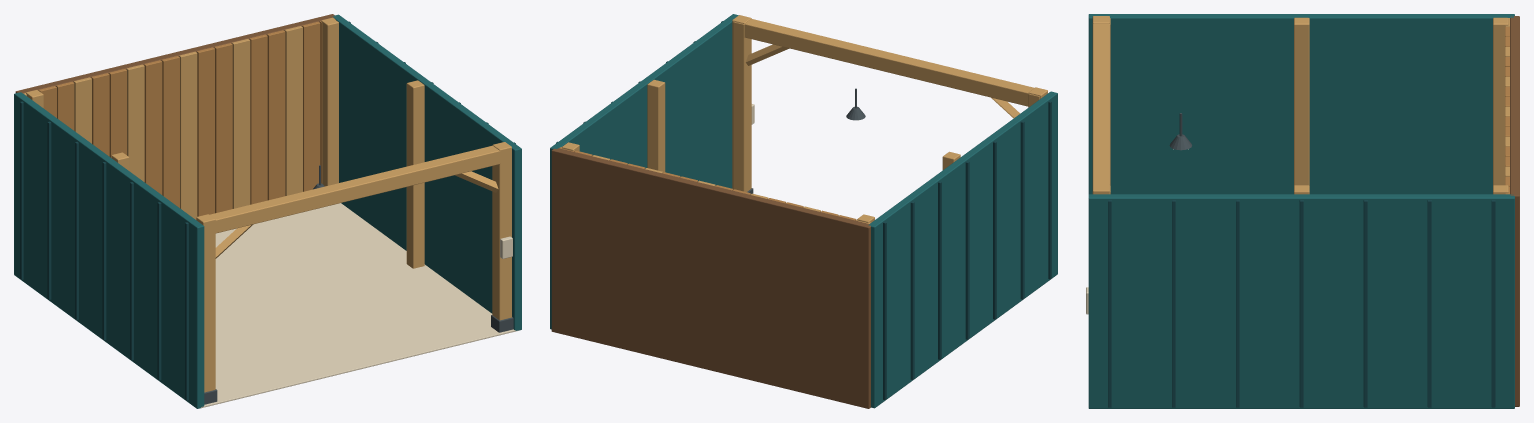
File: saw-shed-shell.glb
3 renders of one model, left to right at view 1: azimuth 30°, elevation 25°; view 2: azimuth 150°, elevation 25°; view 3: azimuth 270°, elevation 25°, orthographic. The views are drawn at different scales.
Visible parts, largest first — view 1: saw-shed-shell-shell-timber-teal, saw-shed-shell-floor-timber-cream, saw-shed-shell-shell-timber-wood-light, saw-shed-shell-shell-timber-wood, saw-shed-shell-shell-timber-teal-dark, saw-shed-shell-shell-timber-wood-dark, saw-shed-shell-shell-timber-metal; view 2: saw-shed-shell-shell-timber-wood-dark, saw-shed-shell-shell-timber-teal, saw-shed-shell-shell-timber-wood-light, saw-shed-shell-shell-timber-teal-dark, saw-shed-shell-shell-timber-wood; view 3: saw-shed-shell-shell-timber-teal, saw-shed-shell-shell-timber-wood-light, saw-shed-shell-shell-timber-teal-dark, saw-shed-shell-shell-timber-wood-dark, saw-shed-shell-shell-timber-wood.
Boxes of the visible parts, x1,y1,x2,y2 form: saw-shed-shell-shell-timber-teal: (14,14,521,408); saw-shed-shell-floor-timber-cream: (201,203,518,408); saw-shed-shell-shell-timber-wood-light: (23,17,511,392); saw-shed-shell-shell-timber-wood: (38,18,335,216); saw-shed-shell-shell-timber-teal-dark: (20,21,515,400); saw-shed-shell-shell-timber-wood-dark: (15,14,335,93); saw-shed-shell-shell-timber-metal: (204,315,513,404); saw-shed-shell-shell-timber-wood-dark: (551,148,870,408); saw-shed-shell-shell-timber-teal: (550,14,1057,408); saw-shed-shell-shell-timber-wood-light: (562,15,1047,223); saw-shed-shell-shell-timber-teal-dark: (556,21,1051,400); saw-shed-shell-shell-timber-wood: (559,147,856,220); saw-shed-shell-shell-timber-teal: (1088,14,1514,408); saw-shed-shell-shell-timber-wood-light: (1092,16,1509,194); saw-shed-shell-shell-timber-teal-dark: (1108,200,1495,407); saw-shed-shell-shell-timber-wood-dark: (1510,16,1519,406); saw-shed-shell-shell-timber-wood: (1505,27,1509,194).
Bounding box in the file's own units: 6.23 × 3.32 × 6.11.
